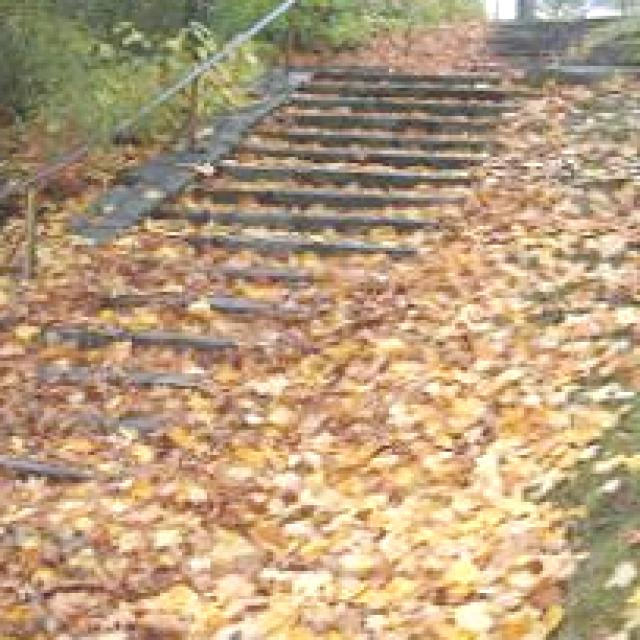upstair: (1, 189, 236, 493)
